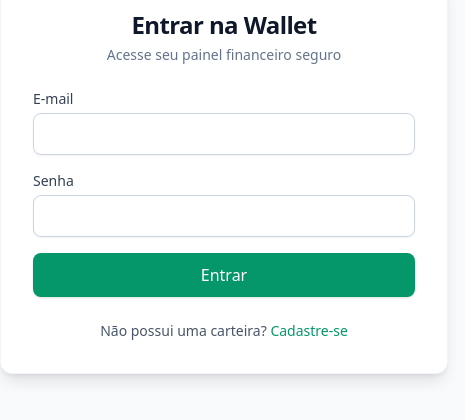
Scenario: LoginForm › displays validation error if password is less than 12 characters
Type "test@wallet.local" into the field labelled "E-mail" at [224, 134], box 33,113 -> 415,155
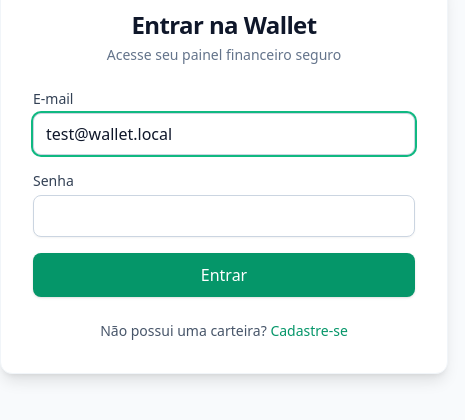
Type "short" into the password field labelled "Senha" at [224, 216], box 33,195 -> 415,237
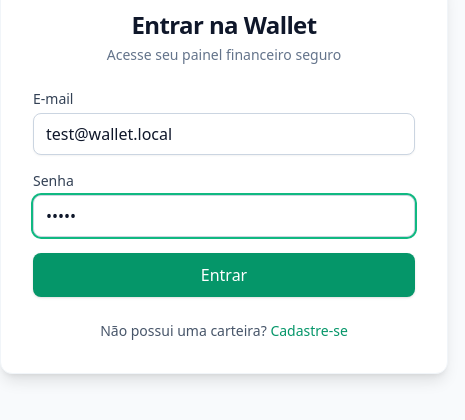
Click the button "Entrar" at [224, 275], box 33,253 -> 415,297
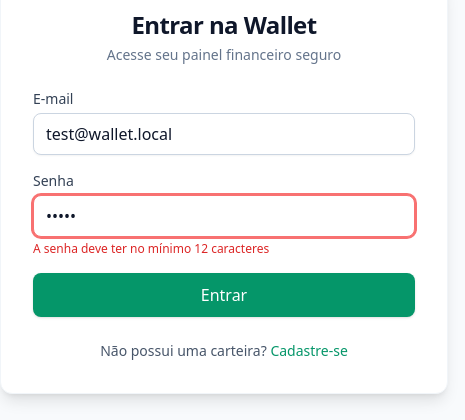
expect the text "A senha deve ter no mínimo 12 caracteres" is shown: met, box 33,240 -> 269,257
